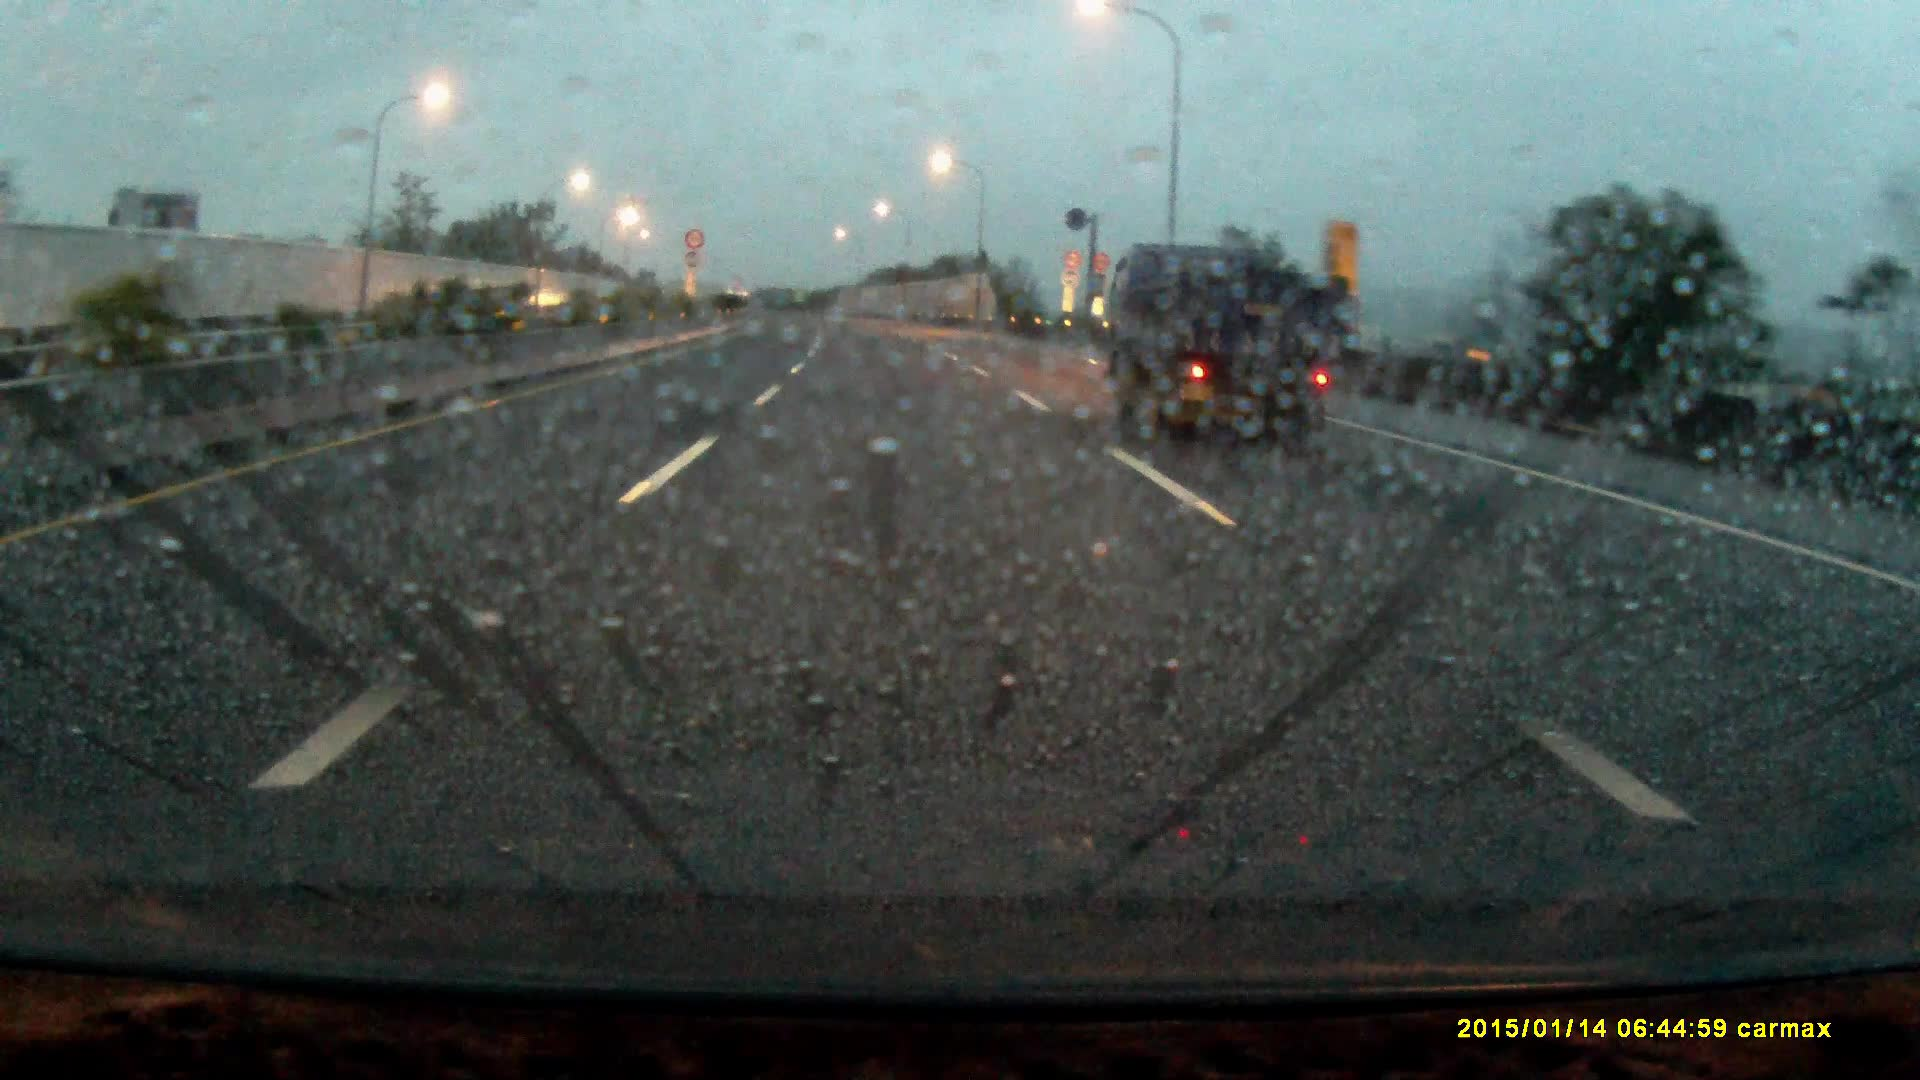vehicle: (1106, 237, 1353, 429)
